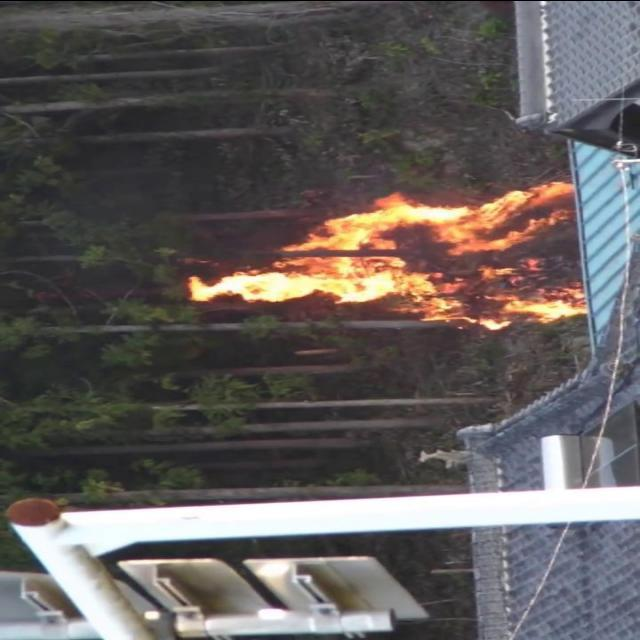Fire: (184, 180, 588, 328)
